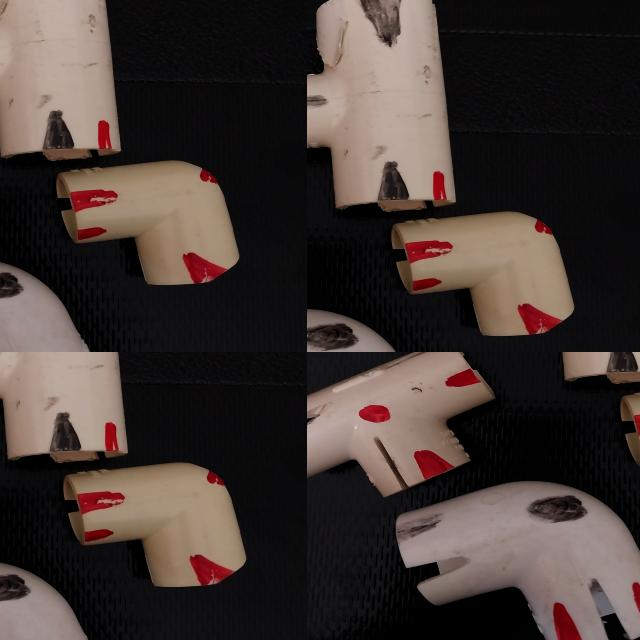Defective: (592, 579, 628, 640), (413, 556, 479, 585), (378, 444, 413, 489), (527, 496, 582, 521), (547, 605, 583, 640), (415, 453, 449, 477), (609, 352, 637, 380), (307, 415, 326, 452), (399, 522, 438, 539), (358, 405, 391, 425), (450, 372, 481, 388), (633, 586, 640, 624), (629, 417, 640, 435)
L Joint: (409, 479, 640, 640)
T Joint: (307, 352, 492, 492), (307, 371, 469, 468)
